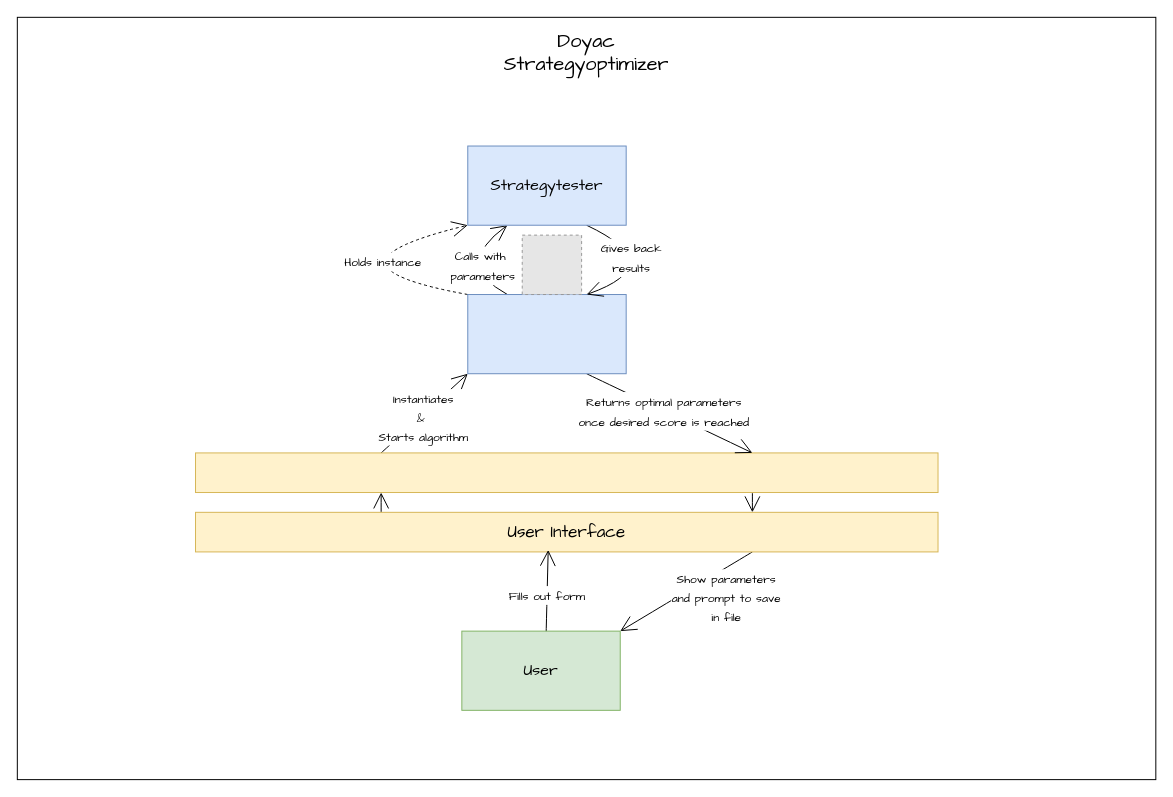
Image size: 1173x797. Some labels were removed from this diagram. Grey dashed boxes stand in for pictures. Here are the shapes that lost their labels. From the top down, the centre of each, then its label:
the point at 546,334: Genetic optimizer
the point at 566,472: Viewmodel
